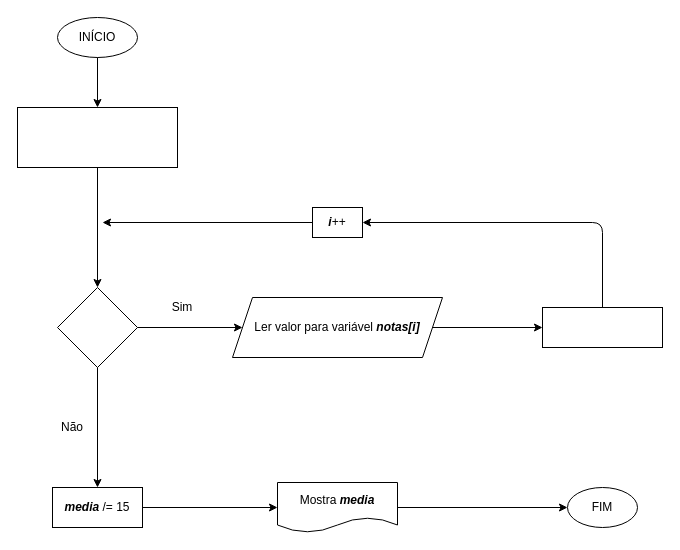
The diagram is 680 pixels wide and 550 high, and some of its shapes have lost their labels. Each missing label, with the centre of its shape:
i < 15: the point at 97,327
media += notas[i]: the point at 602,327
real notas[15] , media =0 inteiro i =0: the point at 97,137
